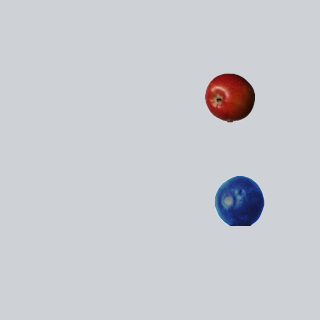Apple Braeburn: (204, 72, 254, 122)
Huckleberry: (214, 175, 264, 225)
